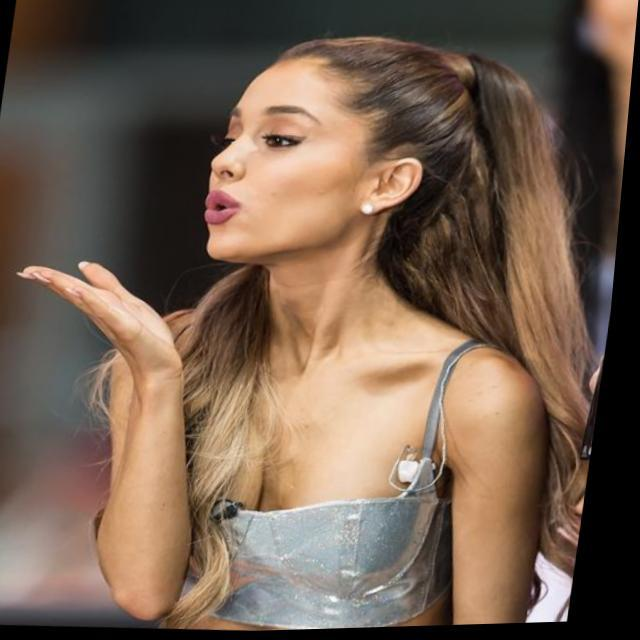Nonhelmet: (195, 23, 485, 291)
